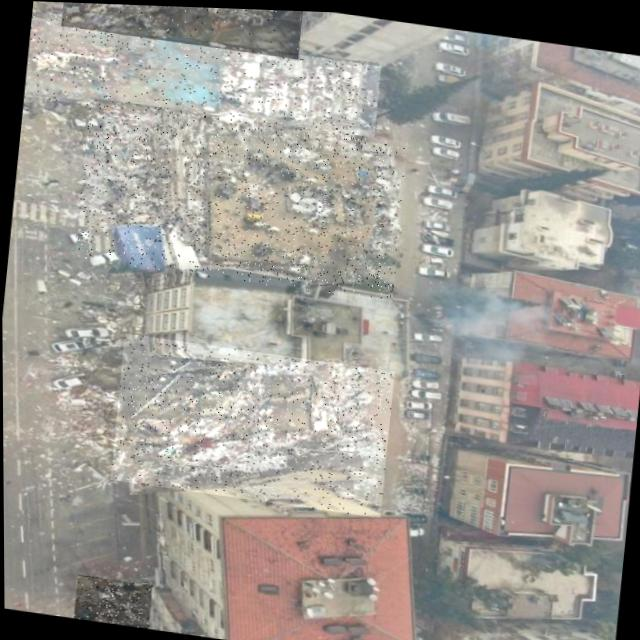Rubble: (72, 97, 407, 300), (107, 331, 393, 515), (22, 16, 380, 142), (59, 2, 301, 57), (71, 573, 151, 628)
